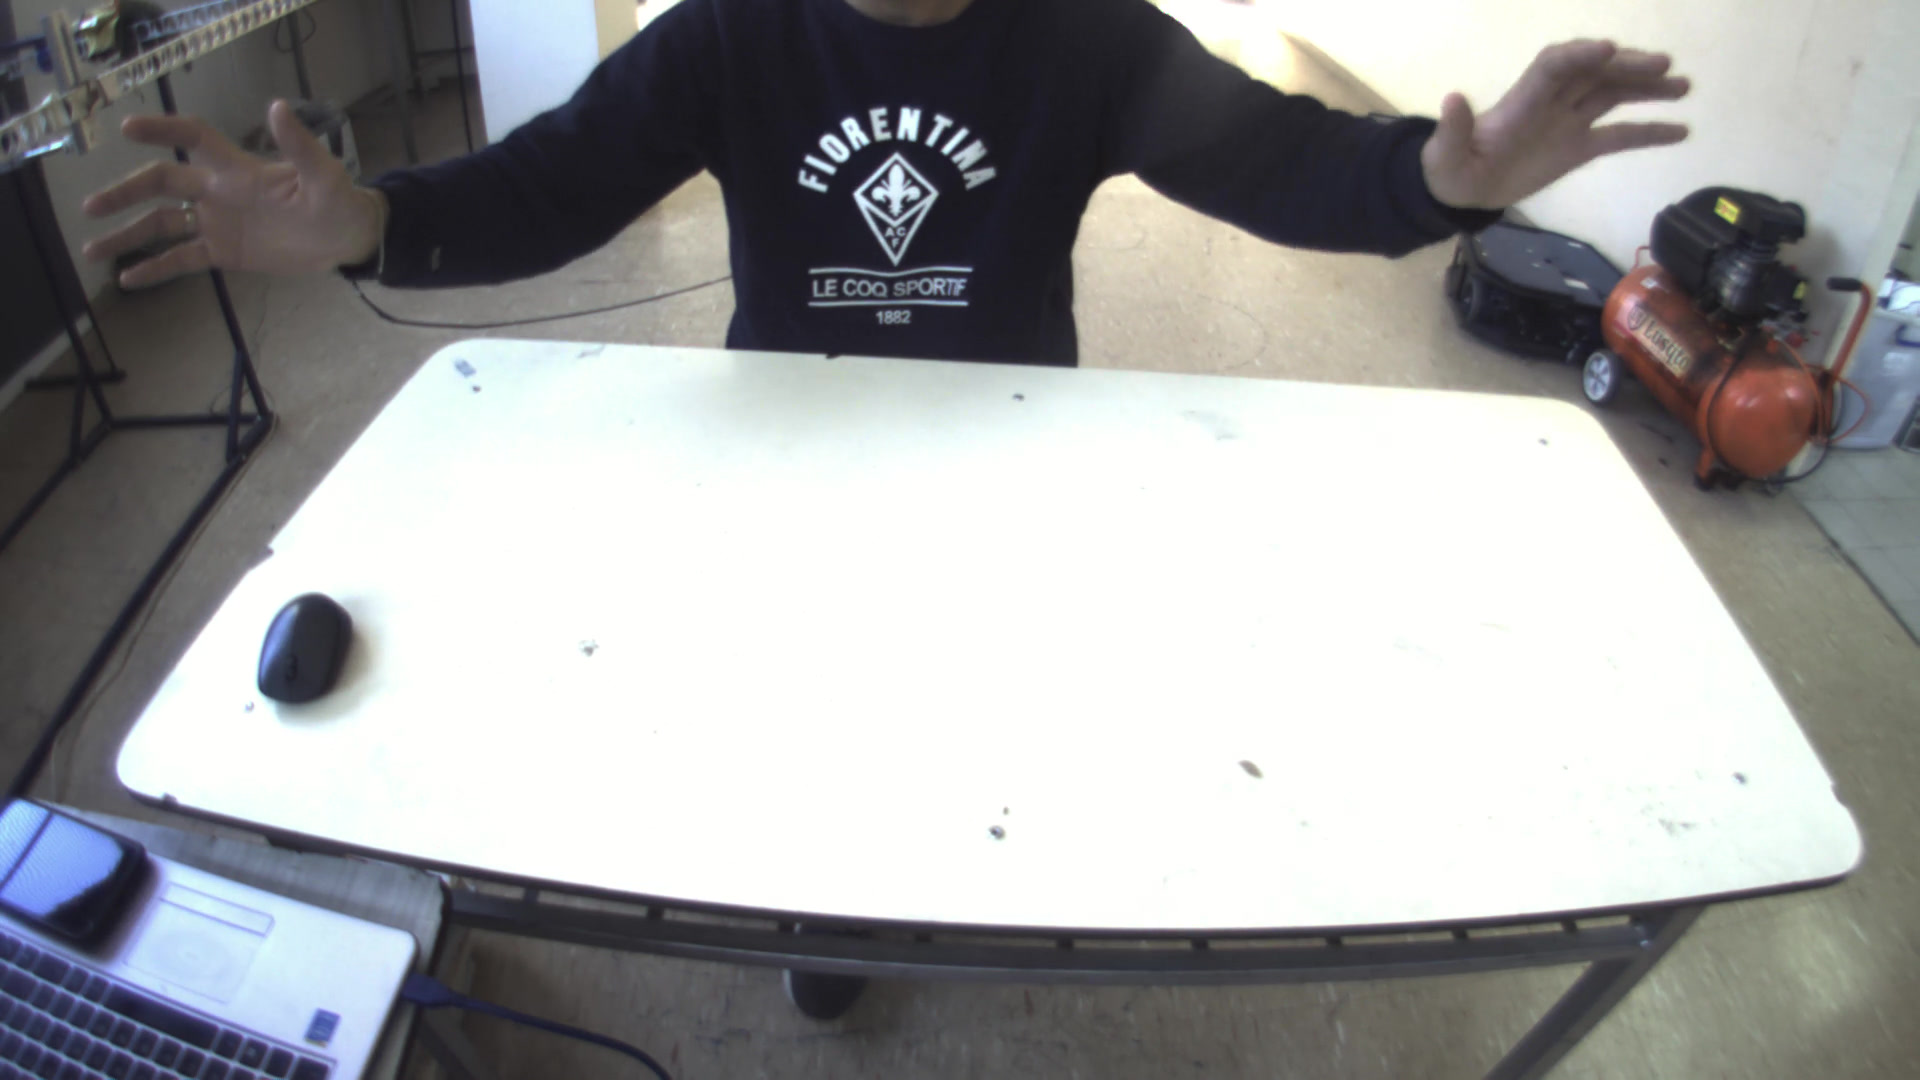hand: (65, 79, 378, 295), (1431, 20, 1698, 207)
